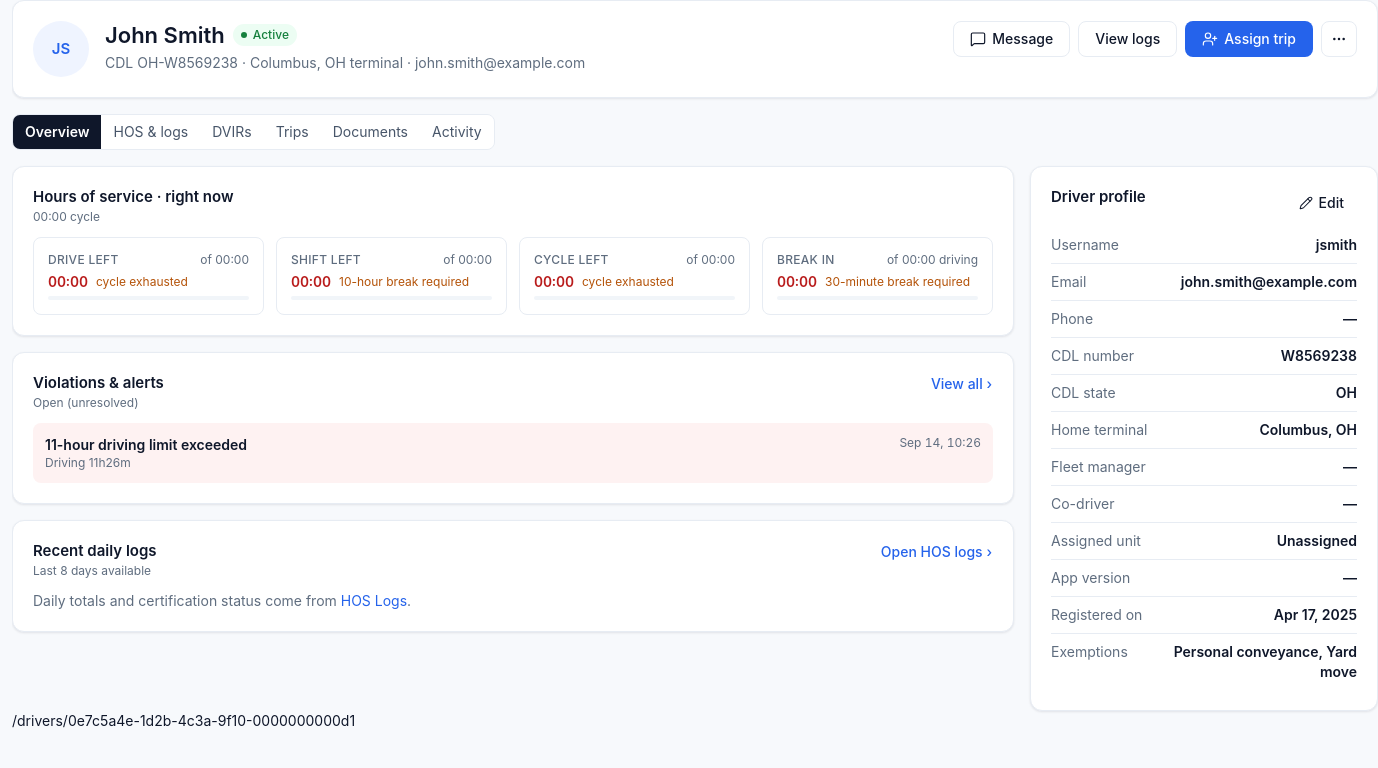
Test: W-07 Driver profile — four states › LIVE-024 — the Activity tab lists this driver record's audit trail
This screenshot has width=1378, height=768.
Expected: the heading "John Smith" is shown, [105,21,225,49]
Click the button "Activity" at (457, 132), box [420,115,494,149]
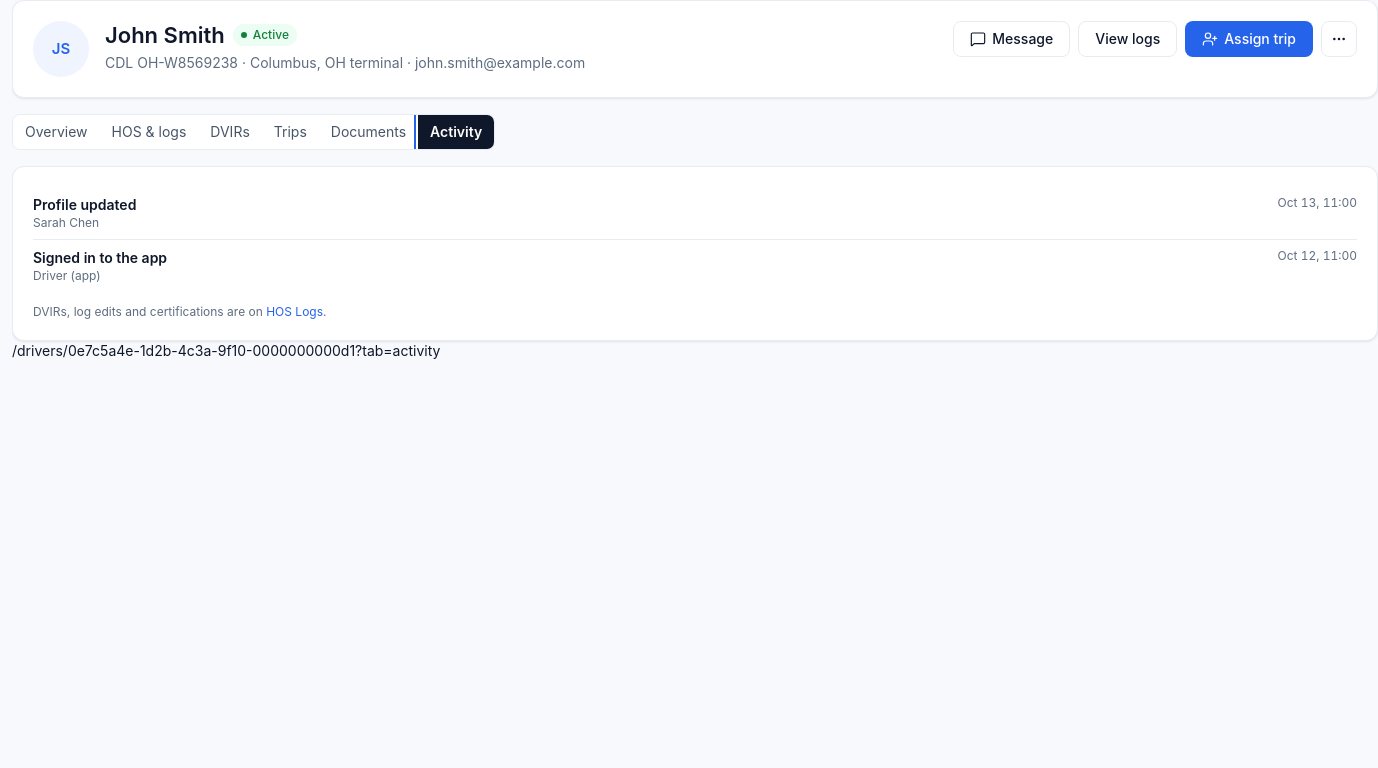
Expected: the text "Profile updated" is shown, [33,195,136,215]
Expected: the text "Sarah Chen" is shown, [33,215,99,230]
Expected: the text "Signed in to the app" is shown, [33,248,167,268]
